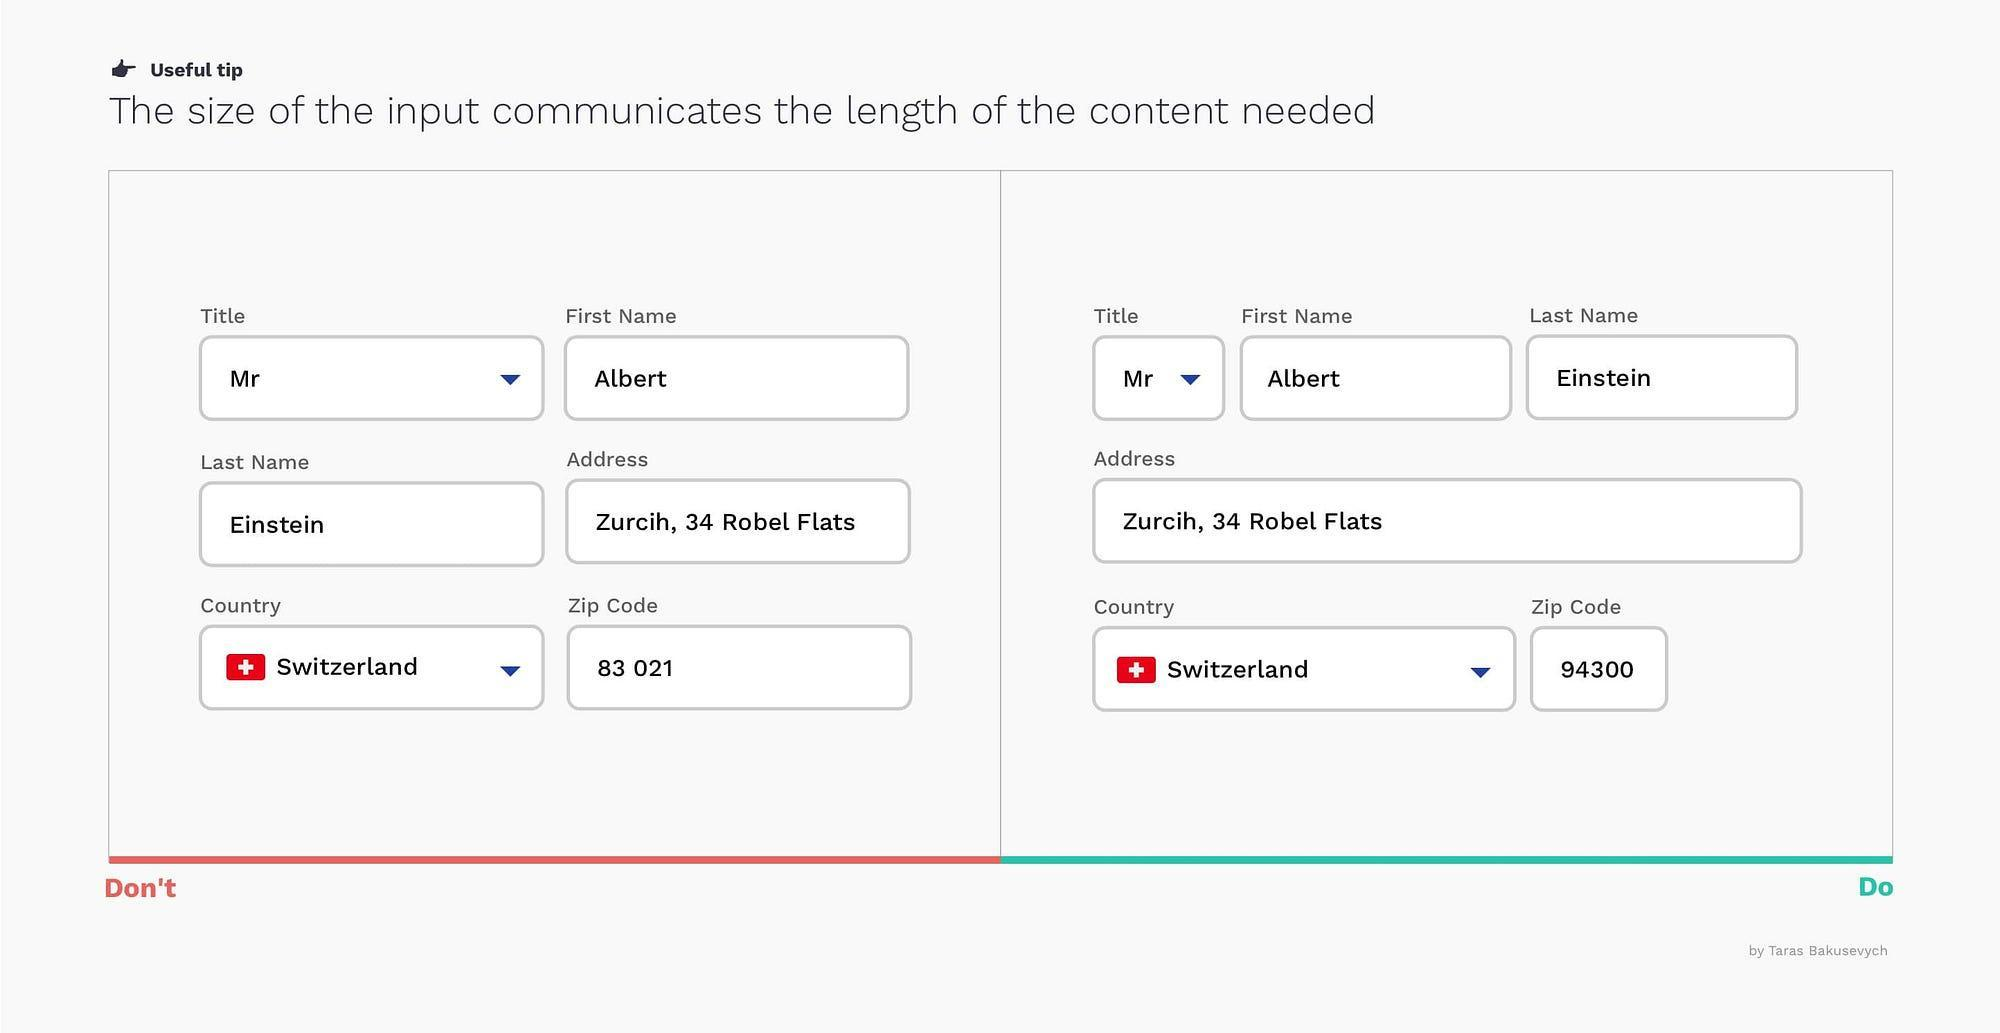dropdown: (1095, 631, 1515, 712), (202, 627, 547, 710), (202, 340, 544, 422), (1094, 341, 1225, 416)
input: (1097, 484, 1801, 565), (570, 627, 914, 712), (199, 482, 547, 565), (565, 481, 910, 563), (567, 341, 910, 418), (1528, 337, 1797, 418), (1245, 343, 1511, 422), (1531, 632, 1665, 712)
label: (565, 303, 681, 335), (1238, 304, 1354, 331), (198, 451, 320, 474), (1524, 303, 1640, 327), (563, 597, 669, 621), (1531, 596, 1623, 621), (1088, 597, 1181, 621), (200, 596, 282, 621), (1096, 451, 1178, 476), (191, 302, 257, 331), (568, 452, 656, 470), (1096, 299, 1145, 329)
